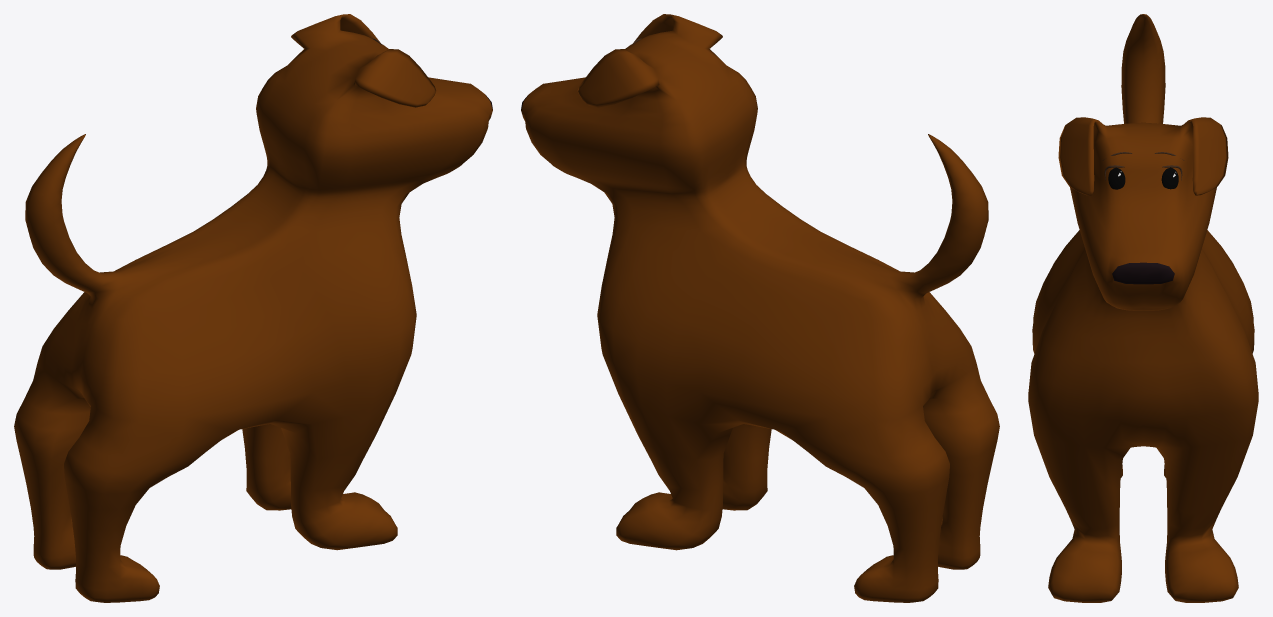
The model's file is pes_maly.glb.
3 renders of one model, left to right at view 1: azimuth 30°, elevation 25°; view 2: azimuth 150°, elevation 25°; view 3: azimuth 270°, elevation 25°, orthographic. The views are drawn at different scales.
Visible parts, largest first — view 1: Dog_Material.001_0; view 2: Dog_Material.001_0; view 3: Dog_Material.001_0, Dog_Material.008_0.
Part boxes in pixels (x1,y1,x2,y2): Dog_Material.001_0: (14,14,492,602); Dog_Material.001_0: (521,14,999,602); Dog_Material.001_0: (1028,14,1258,602); Dog_Material.008_0: (1112,262,1174,284).
Bounding box in the file's own units: 0.4449 × 0.4499 × 0.1905.
